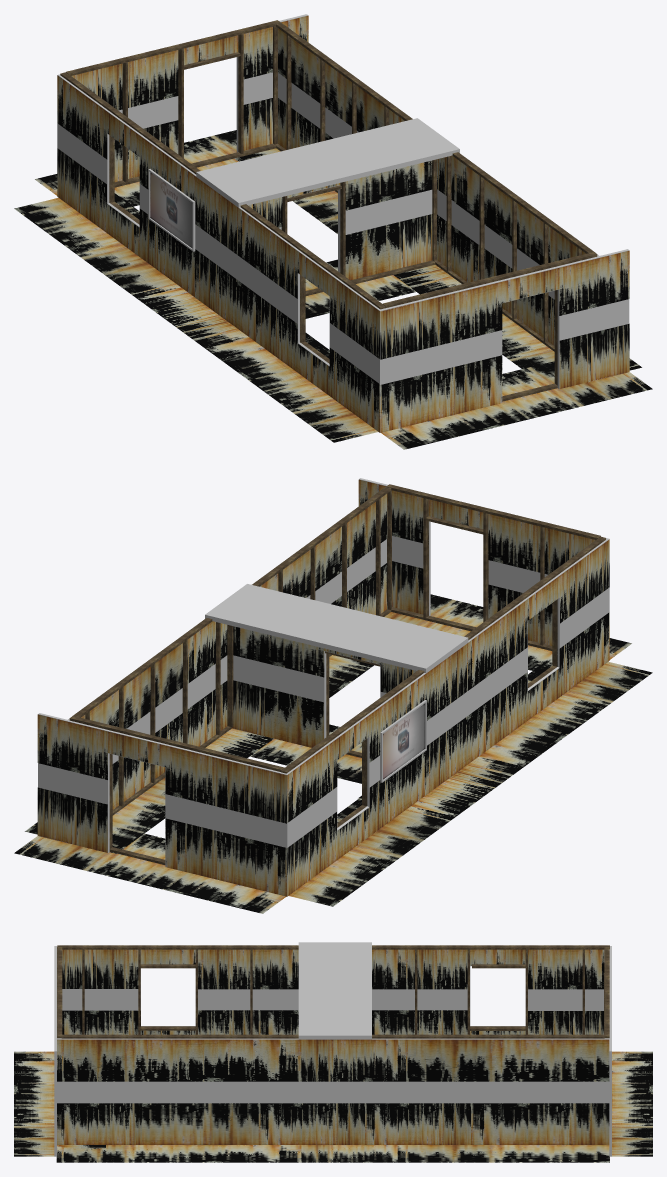
The model's file is Shelter.FBX.
3 renders of one model, top to bottom at view 1: azimuth 30°, elevation 25°; view 2: azimuth 150°, elevation 25°; view 3: azimuth 270°, elevation 25°, orthographic. The views are drawn at different scales.
Parts seen in each view (by area): view 1: Shelter; view 2: Shelter; view 3: Shelter.
Boxes of the visible parts, x1,y1,x2,y2 form: Shelter: [14, 14, 652, 449]; Shelter: [14, 478, 652, 913]; Shelter: [14, 942, 652, 1162].
Bounding box in the file's own units: 876 × 344 × 1817.
